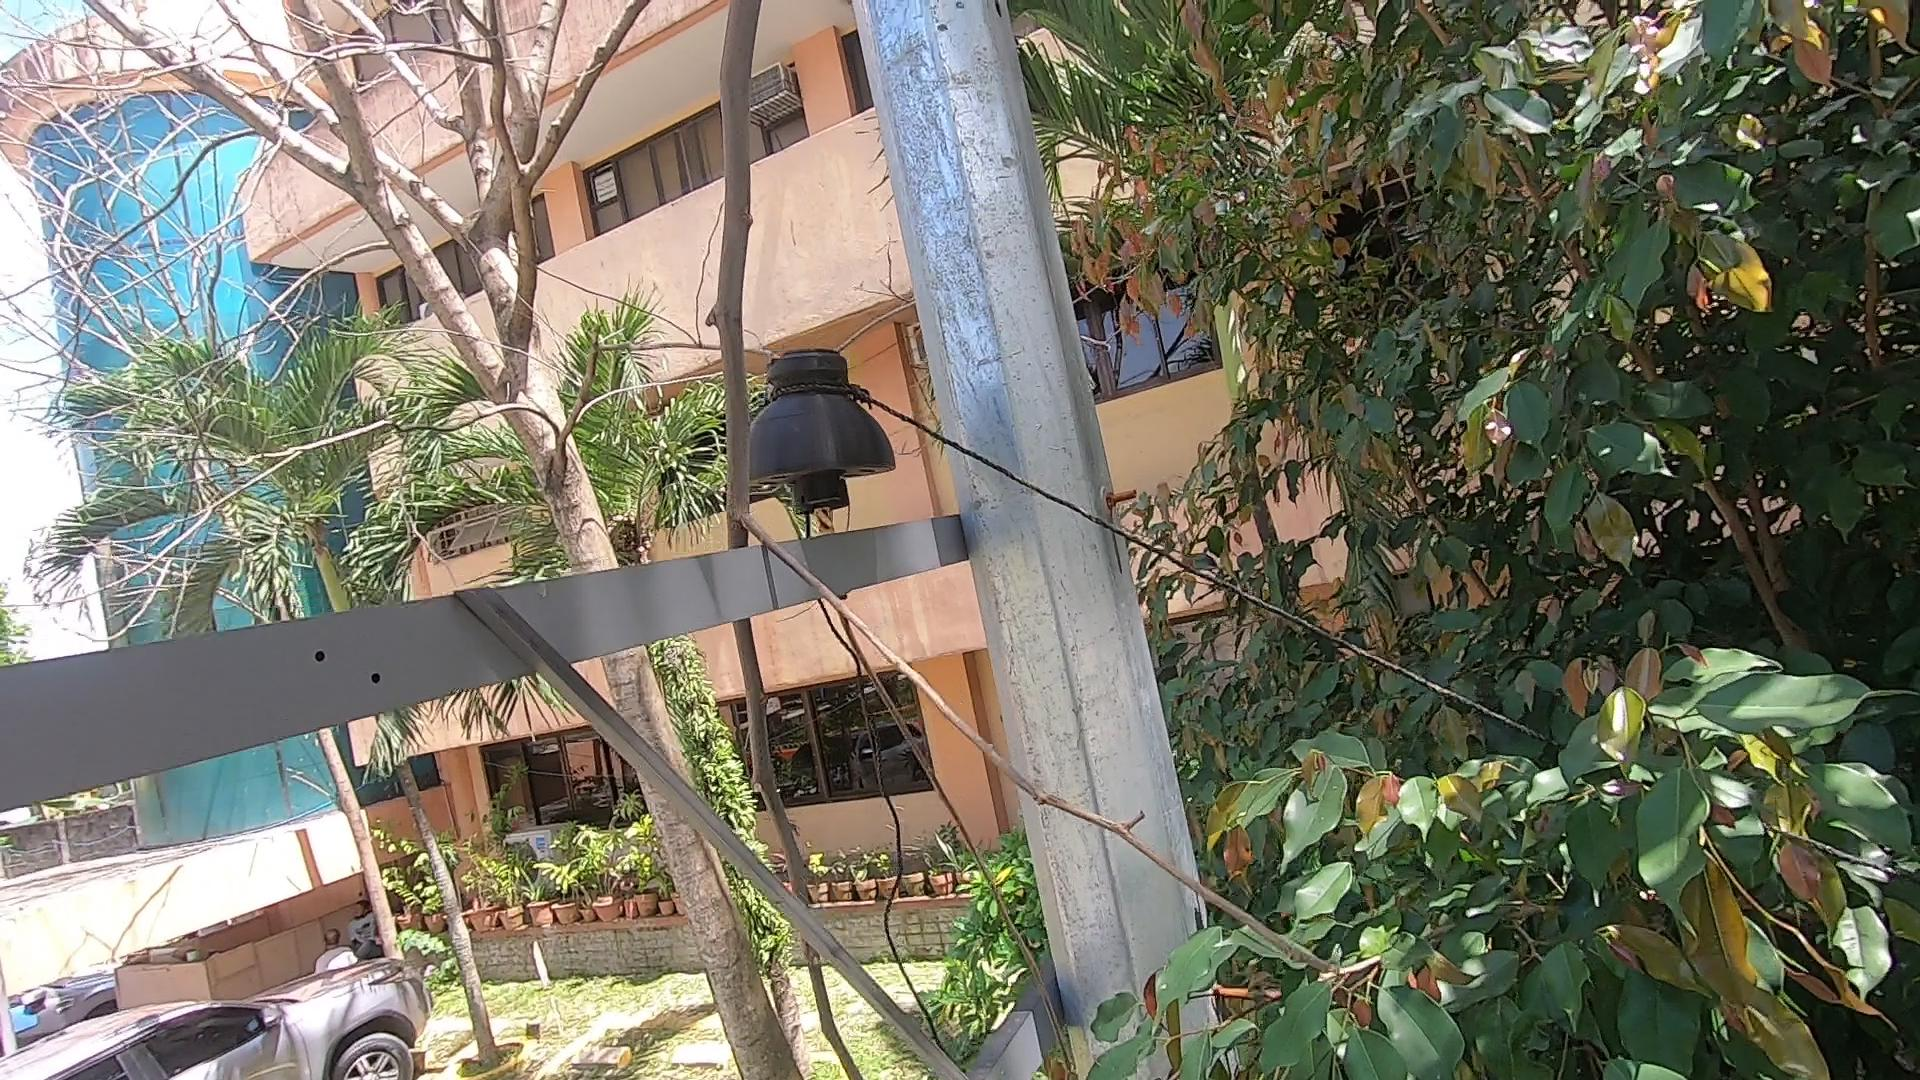tree branch: (651, 5, 922, 1080)
